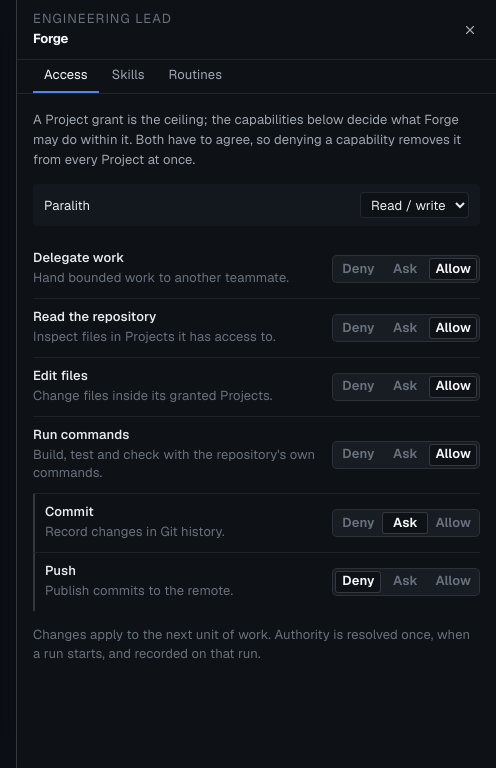
Test case: AgentSettingsPanel › shows a paused Routine as paused rather than as one about to run
Click the button "Routines" at (195, 76), box [158, 60, 233, 93]
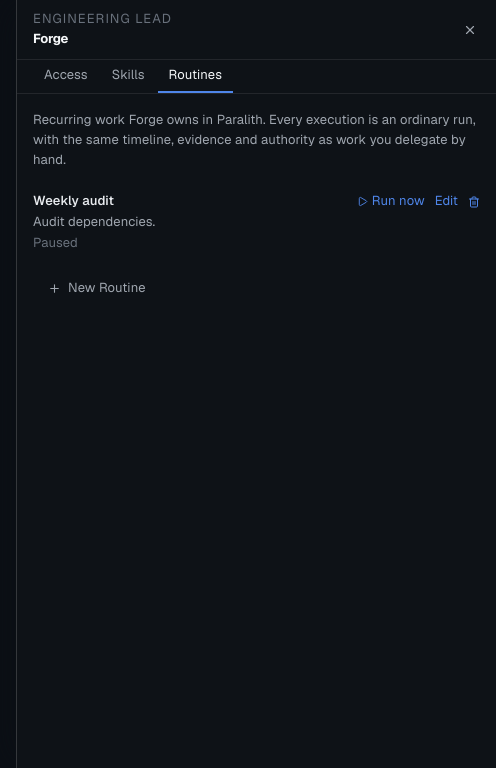
Result: the text "Paused" is shown at [33, 234, 78, 251]
Result: the text "next" is gone
